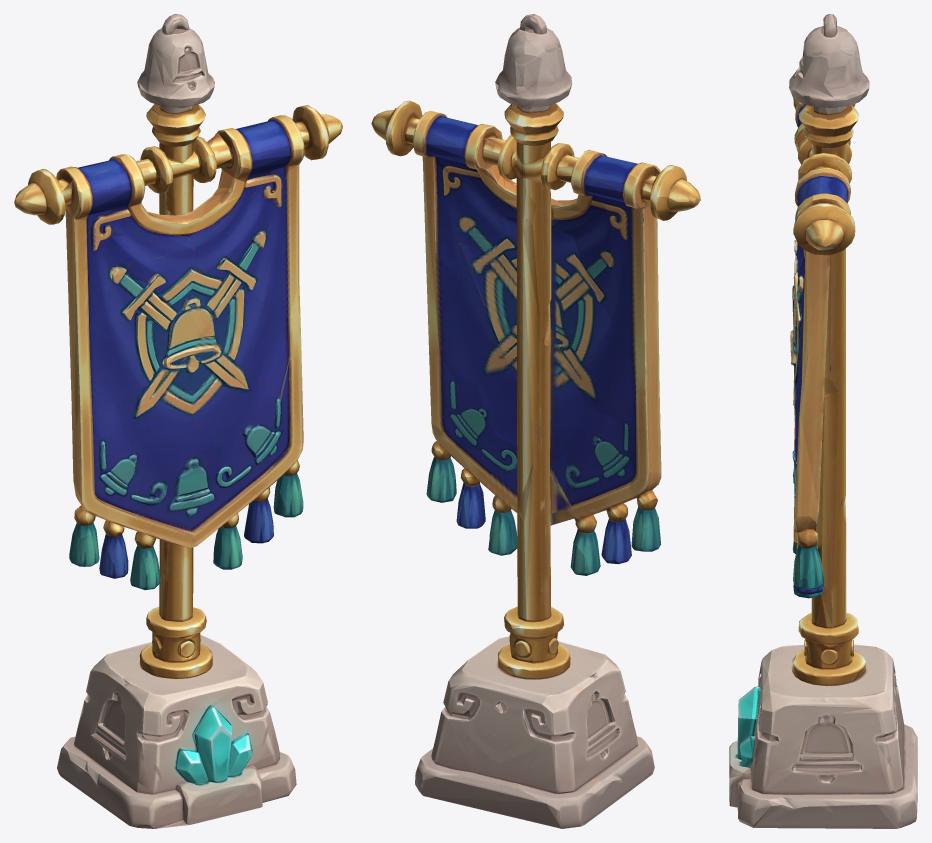
File: gh_banner.fbx
The picture shows the model from 3 angles, left to right: view 1: azimuth 30°, elevation 25°; view 2: azimuth 150°, elevation 25°; view 3: azimuth 270°, elevation 25°; orthographic projection.
Parts seen in each view (by area): view 1: gh_banner; view 2: gh_banner; view 3: gh_banner.
Boxes of the visible parts, x1,y1,x2,y2 form: gh_banner: (14,14,342,828); gh_banner: (371,14,700,828); gh_banner: (729,14,917,828).
Size of the model in its own units: 1.87 by 4.2 by 0.9282.
